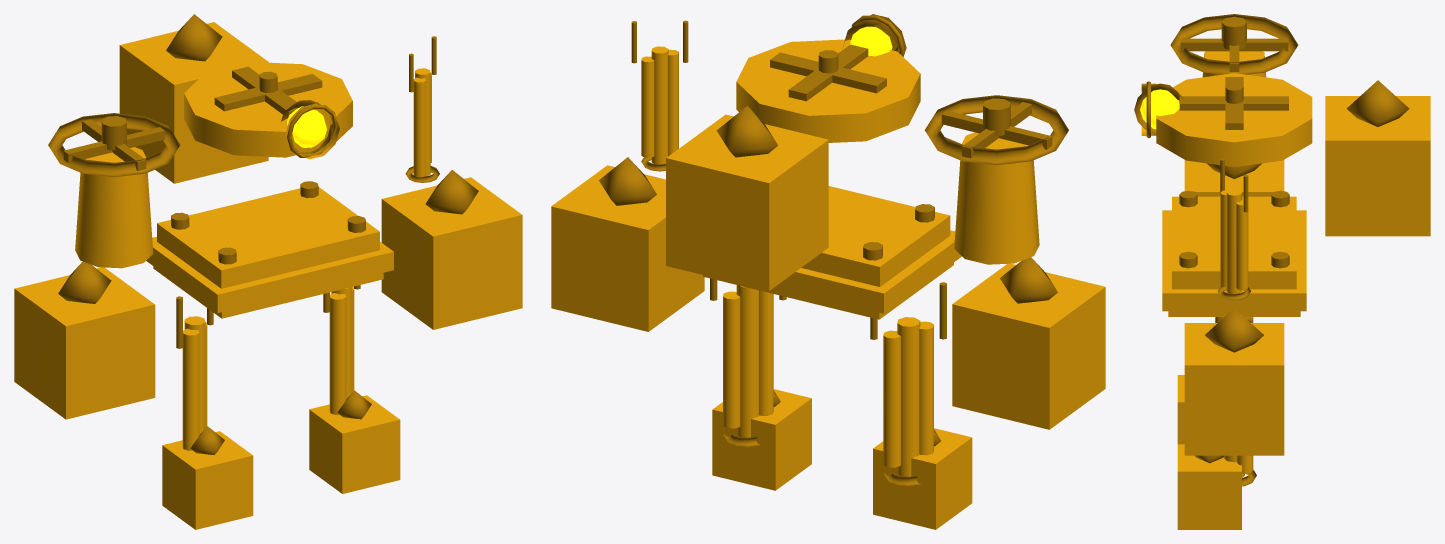
File: golem_043.glb
The picture shows the model from 3 angles, left to right: view 1: azimuth 30°, elevation 25°; view 2: azimuth 150°, elevation 25°; view 3: azimuth 270°, elevation 25°; orthographic projection. The views are drawn at different scales.
Visible parts, largest first — view 1: Body, Detail, Glow; view 2: Body, Detail, Glow; view 3: Body, Detail, Glow.
Boxes of the visible parts, <box> form: Body: <box>14,22,522,529</box>; Detail: <box>48,14,478,454</box>; Glow: <box>287,106,326,147</box>; Body: <box>551,14,1105,529</box>; Detail: <box>599,15,1068,486</box>; Glow: <box>850,26,892,56</box>; Body: <box>1141,51,1430,529</box>; Detail: <box>1134,14,1409,486</box>; Glow: <box>1140,89,1179,129</box>.
Bounding box in the file's own units: 1.35 × 1.18 × 0.7879.
